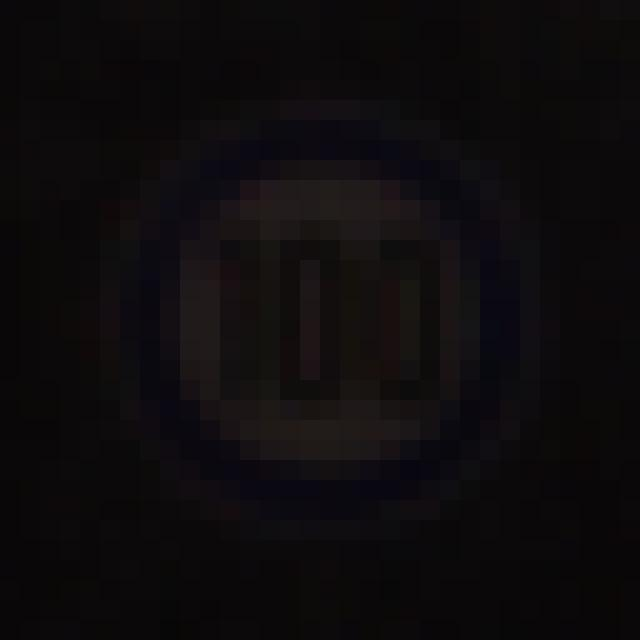SPEED LIMIT 100: (133, 103, 497, 500)
